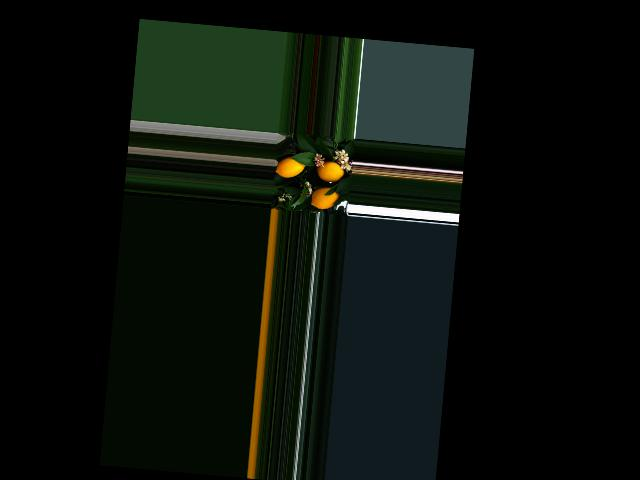lemon: (275, 150, 309, 180)
